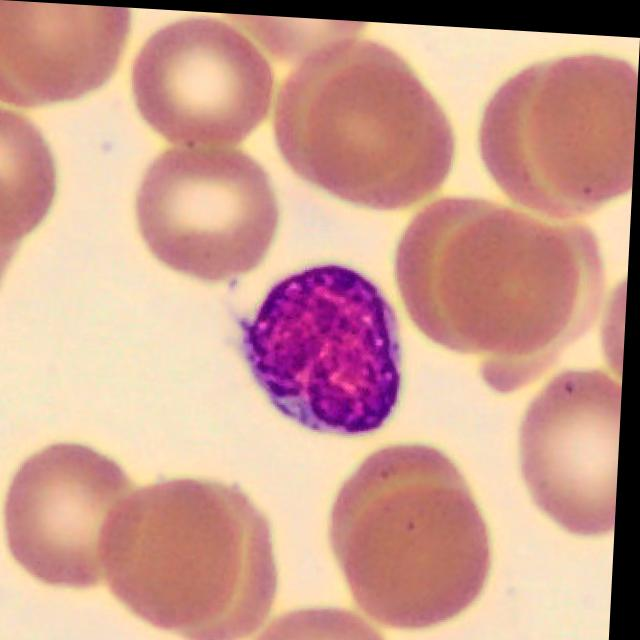Linfocito: (248, 263, 404, 428)
